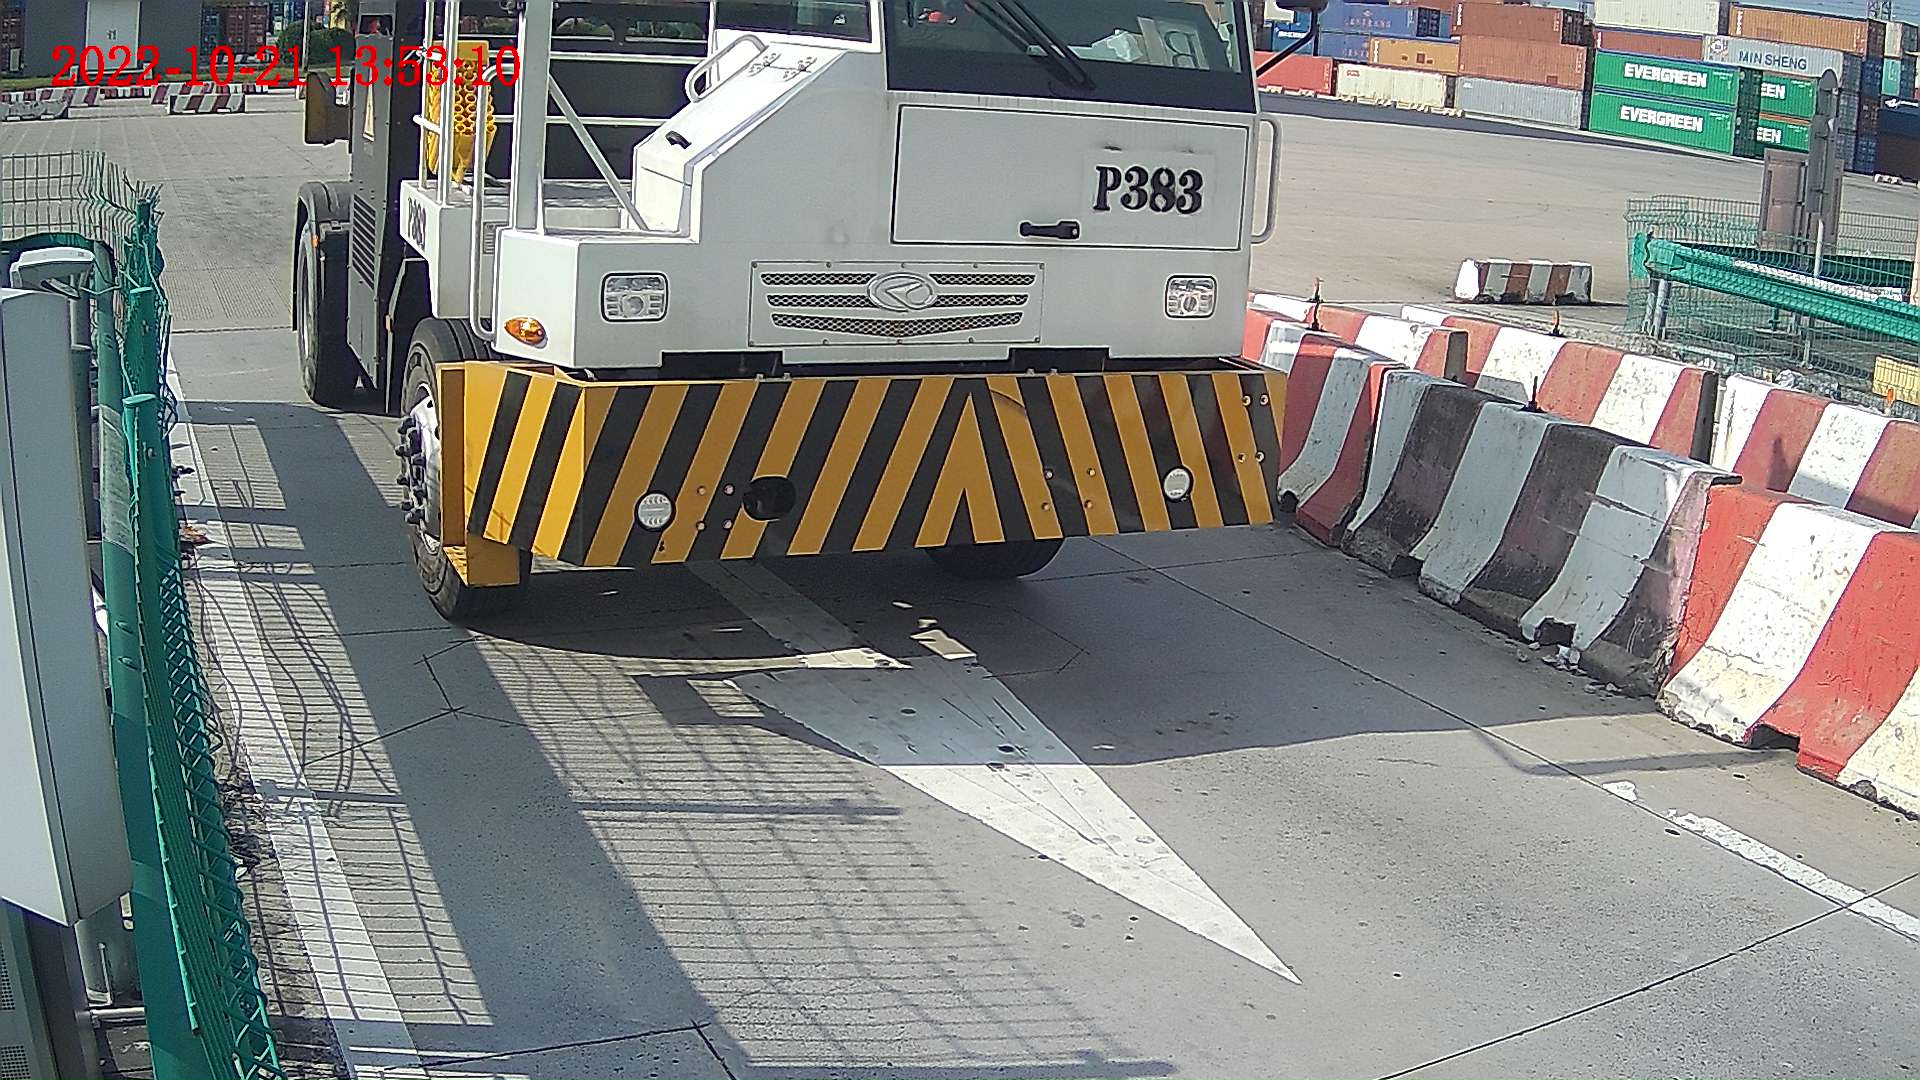head: (367, 1, 1288, 607)
